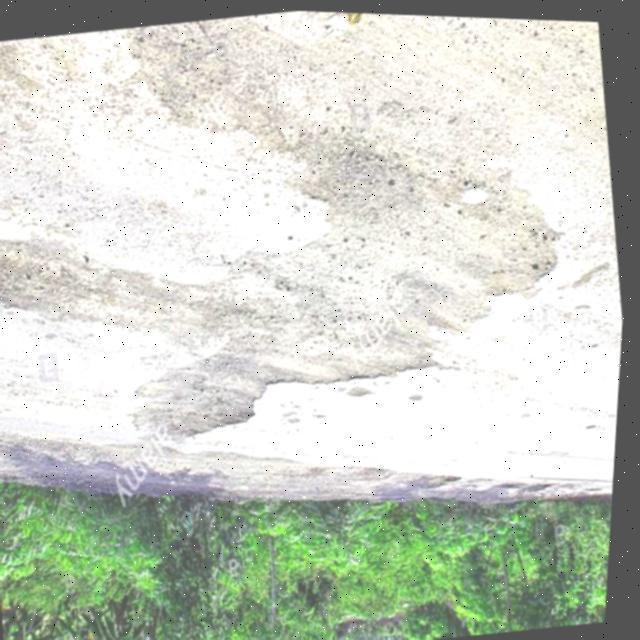Pothole: (367, 145, 550, 320), (265, 303, 419, 402), (131, 347, 265, 444)
